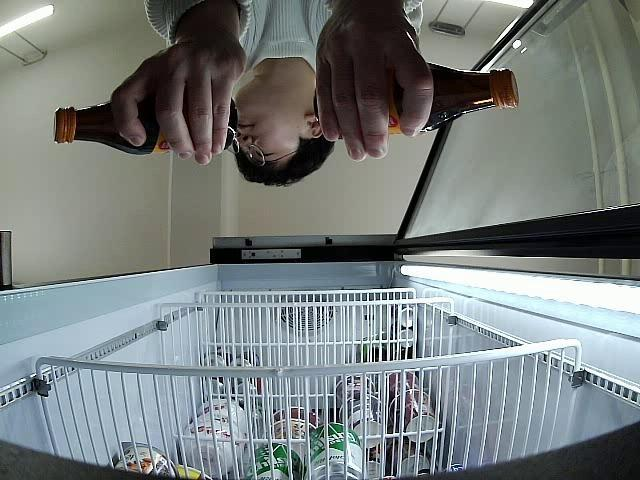17_vita500: (314, 59, 522, 135), (52, 98, 235, 156)
